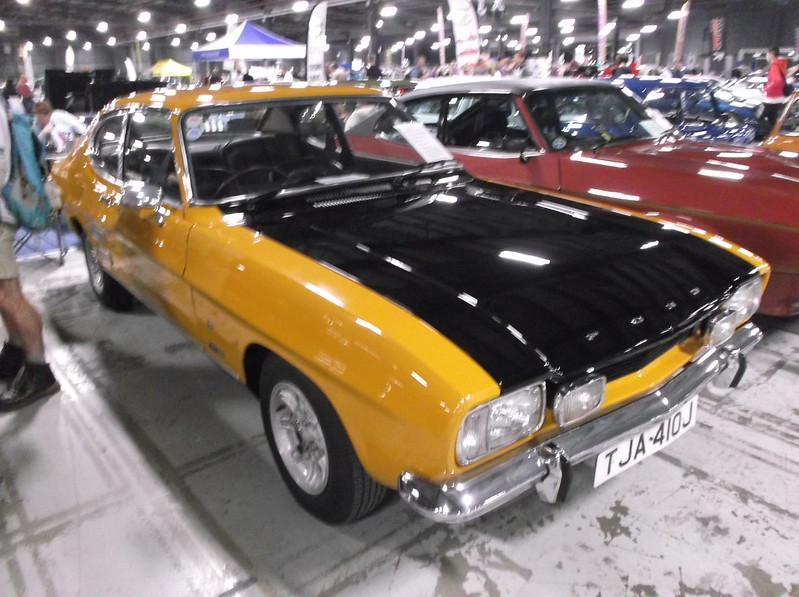number_plate: (590, 399, 743, 485)
